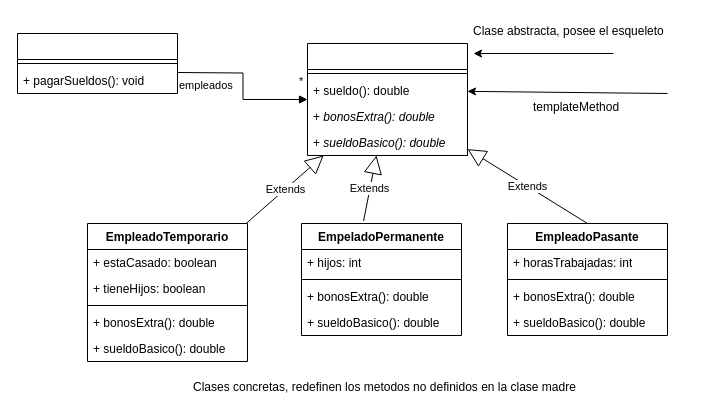
Image size: 705x419. Some labels were removed from this diagram. Each missing label, with the box of its shape:
Empleado: (306, 42, 468, 156)
Empresa: (16, 32, 178, 94)
